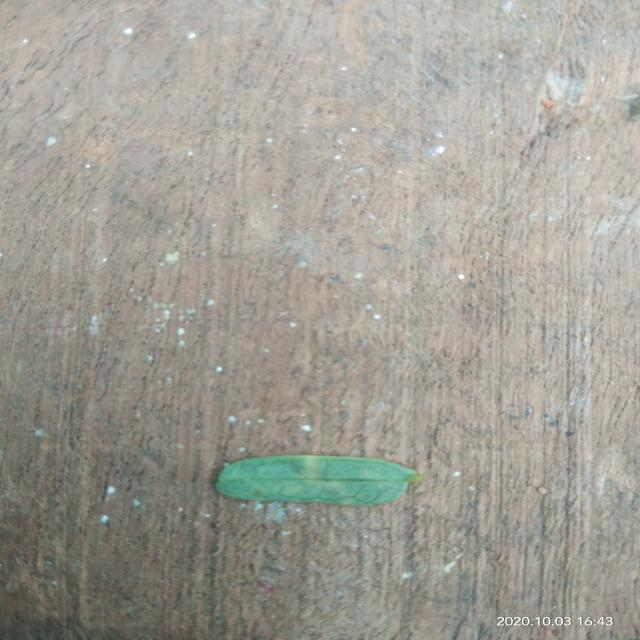tamarind: (215, 455, 423, 506)
